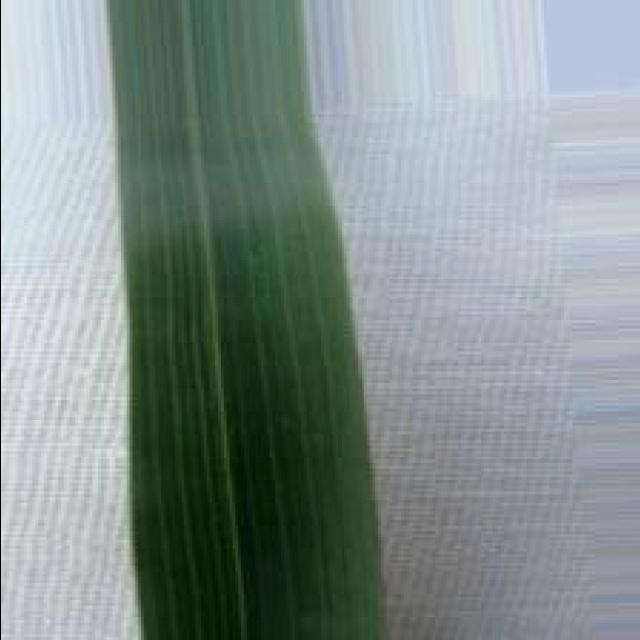Healthy: (106, 0, 386, 640)
